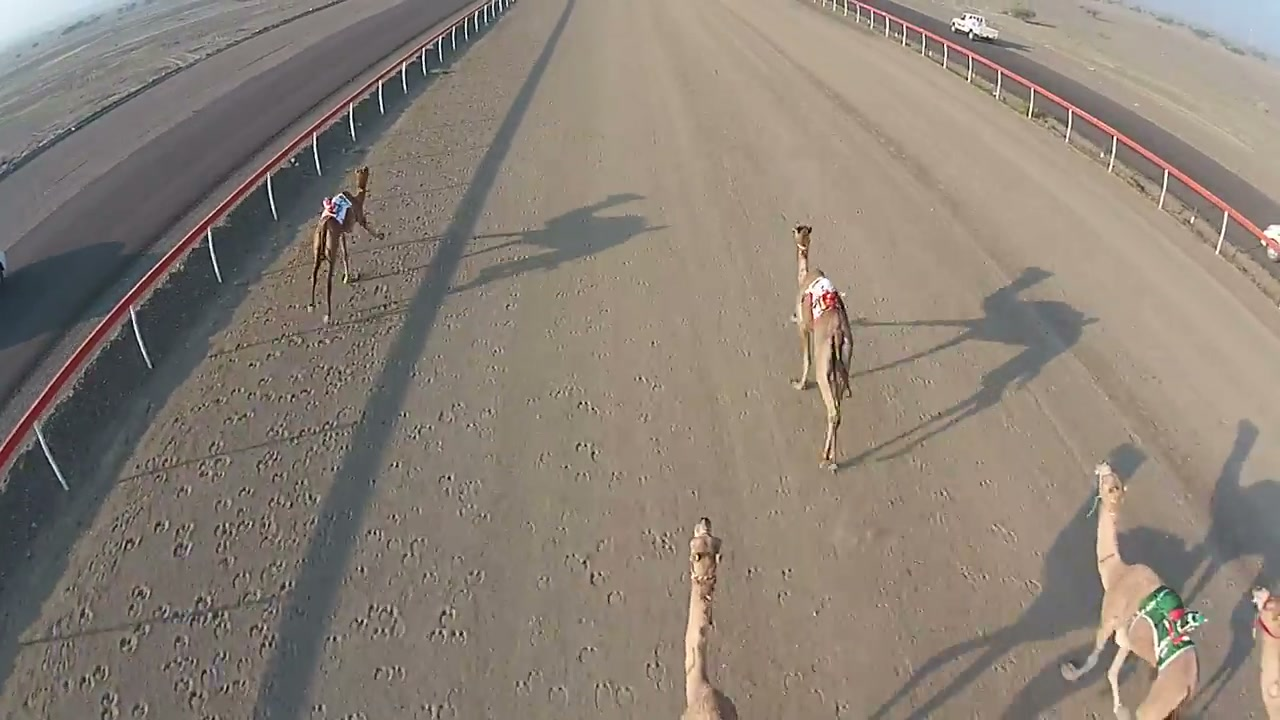animal_foot_print: (46, 306, 362, 715), (360, 380, 519, 711)
